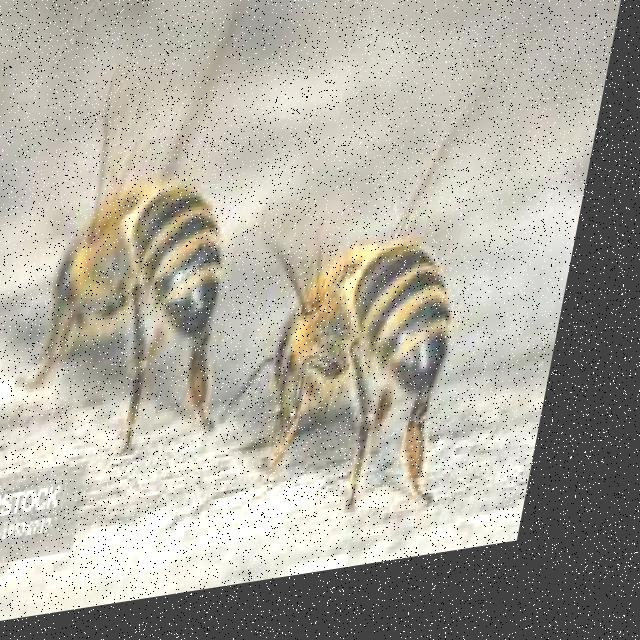Apis-mellifera-scutellata: (18, 31, 292, 477), (221, 162, 516, 553)
